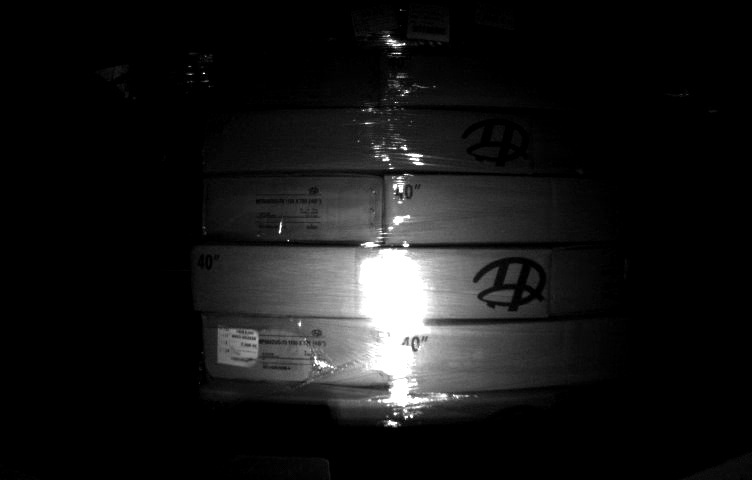True Barcode: (218, 324, 261, 367)
